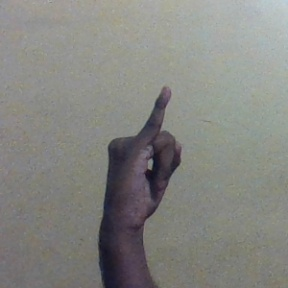I: (101, 85, 188, 227)
